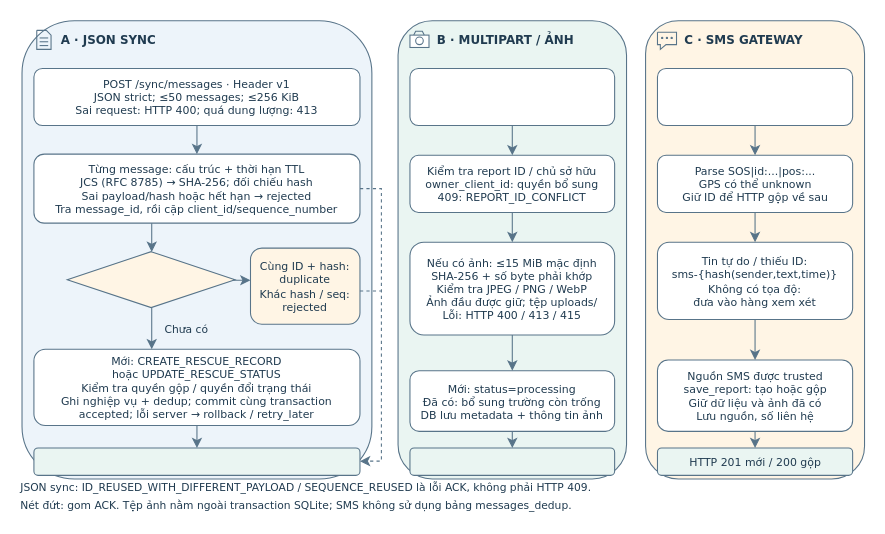
This 885x534 diagram has some shape labels left out. The shapes that lost their labels are listed below. From the top down, each one's centre as x and y in pixels, then its label:
the point at 512,96: POST /api/reports Header v1; meta ≤64 KiB JSON strict; meta.id + clientId
the point at 754,96: POST /api/sms/inbound Token header hoặc query Tắt: HTTP 403; sai token: 401
the point at 150,279: Đã có ID hoặc client/seq?
the point at 196,461: HTTP 200: results ACK theo message_id
the point at 512,461: HTTP 201 + id / imageUrl
